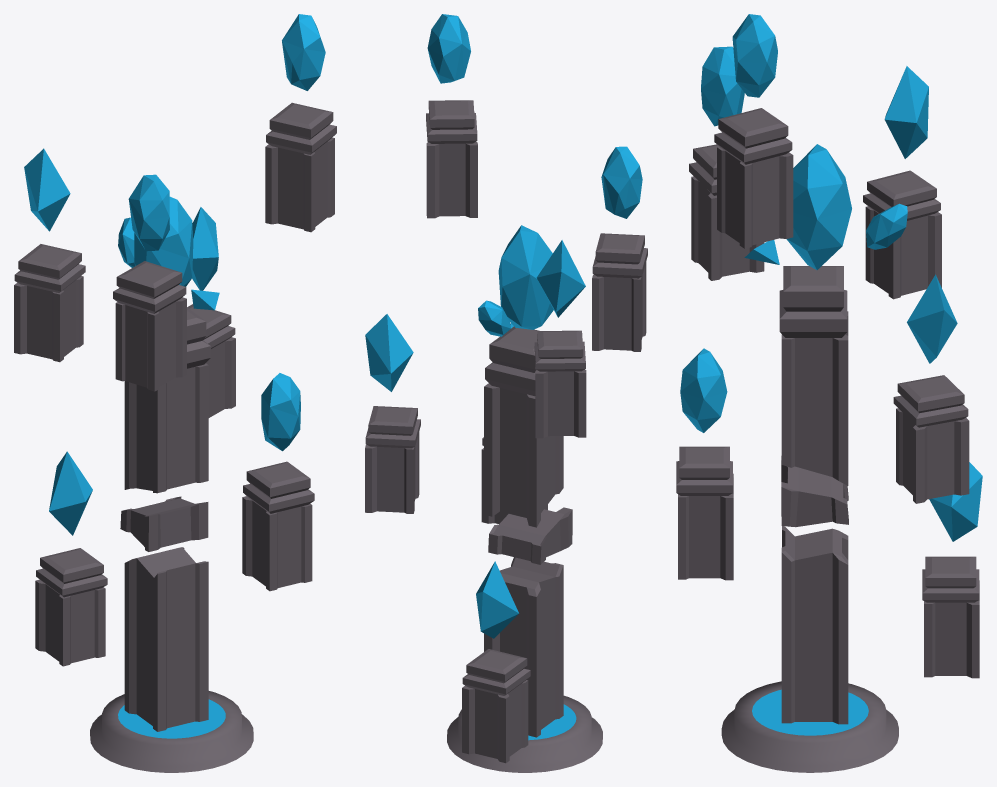
The model's file is Sniper2.fbx.
The picture shows the model from 3 angles, left to right: view 1: azimuth 30°, elevation 25°; view 2: azimuth 150°, elevation 25°; view 3: azimuth 270°, elevation 25°; orthographic projection. The views are drawn at different scales.
Visible parts, largest first — view 1: Icosphere.001; view 2: Icosphere.001; view 3: Icosphere.001.
Part boxes in pixels (x1,y1,x2,y2): Icosphere.001: (14,14,336,772); Icosphere.001: (365,14,647,772); Icosphere.001: (676,14,982,772).
Bounding box in the file's own units: 1038 × 2890 × 1036.
